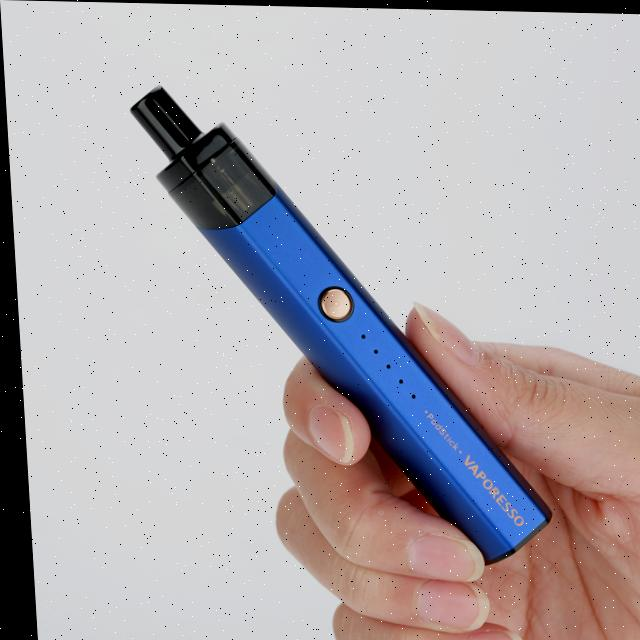vape: (126, 81, 548, 564)
